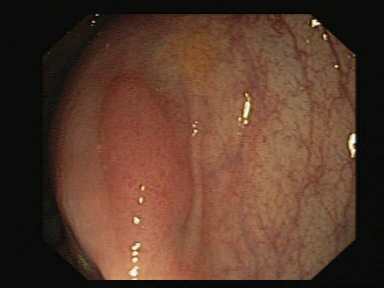polyp: (89, 66, 224, 245)
